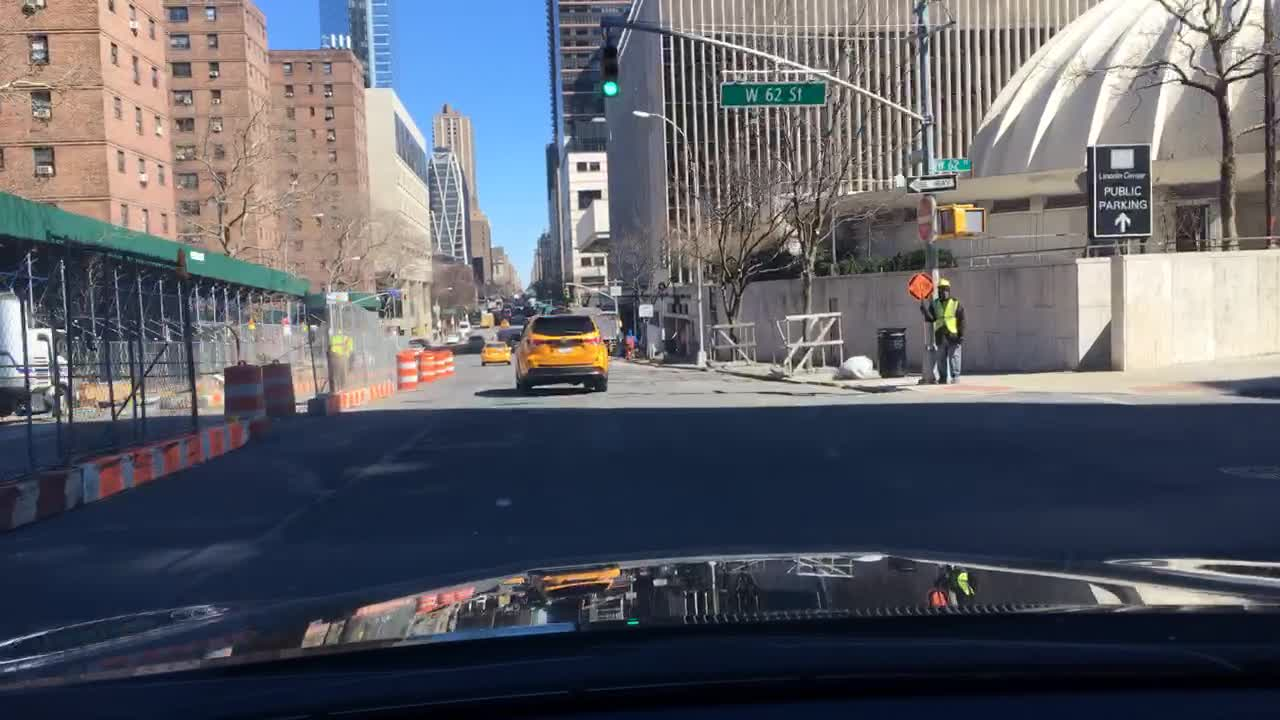car: (510, 310, 608, 393), (476, 338, 513, 366), (523, 299, 545, 316), (493, 326, 524, 338), (466, 332, 486, 350), (404, 341, 425, 357), (502, 300, 525, 314), (442, 330, 462, 344), (406, 337, 430, 348), (495, 333, 514, 346), (539, 304, 558, 315), (498, 310, 512, 324), (484, 297, 499, 310), (525, 295, 539, 308), (431, 322, 444, 335), (458, 315, 471, 328), (467, 314, 480, 326), (499, 304, 513, 314), (491, 294, 504, 303), (525, 300, 534, 308)
person: (918, 278, 968, 385)
traffic light: (598, 42, 620, 96), (937, 204, 963, 237), (963, 205, 986, 232), (560, 284, 571, 299)
traffic sign: (1089, 143, 1152, 236), (715, 79, 829, 108), (913, 193, 937, 244), (902, 174, 958, 195), (902, 268, 933, 300), (935, 157, 973, 172), (531, 301, 553, 315), (636, 304, 655, 319)
truck: (0, 284, 82, 419), (564, 304, 620, 357)
